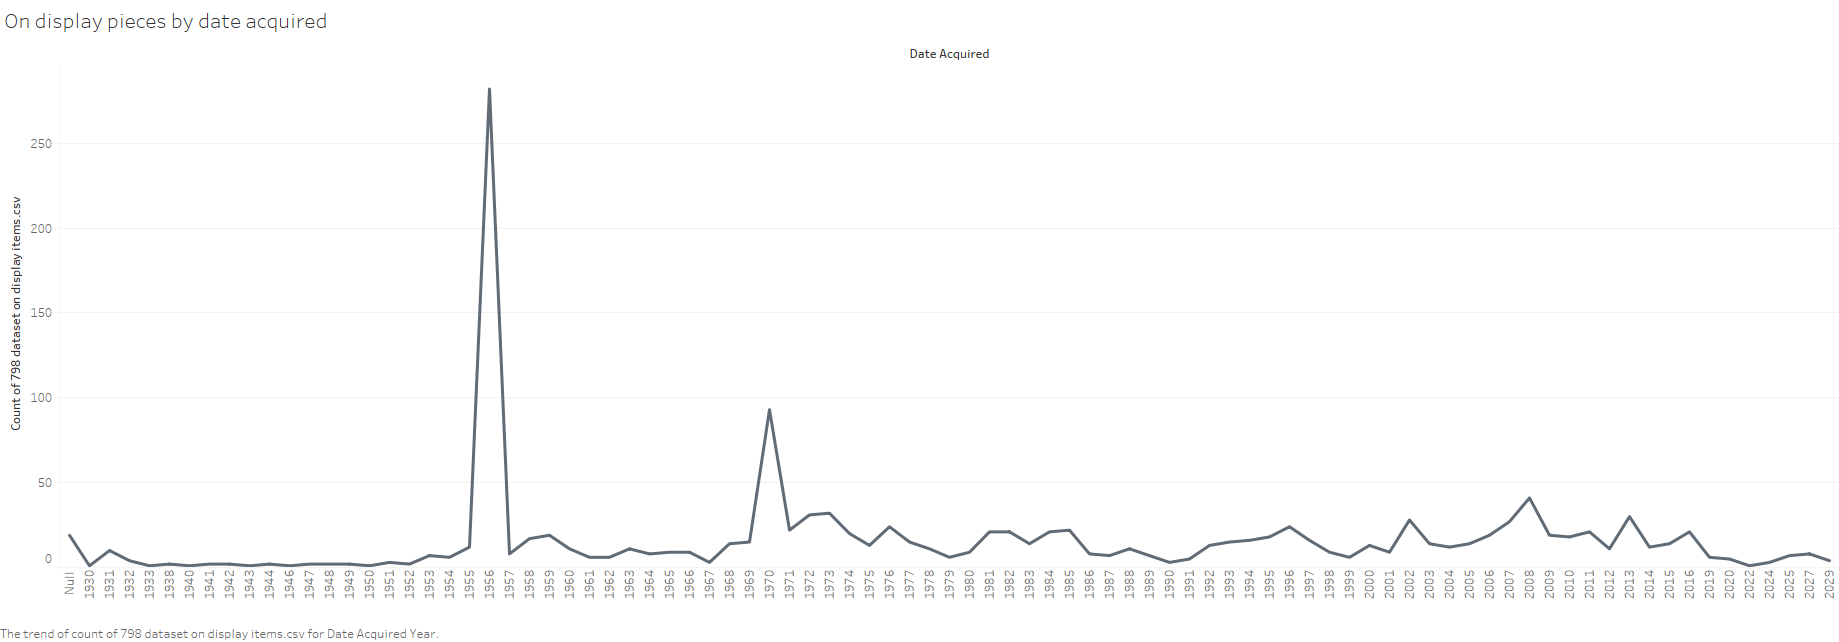

The page's visual inventory and layout, read from the dashboard file:
{"tool":"tableau","page":{"name":"Dashboard 1","canvas":[1000,800],"ordinal":0},"visuals":[{"type":"worksheet","title":"Sheet 2","mark":"Automatic","rows":["798!data!only!not!on!view!rows_52761707DF0A46CA932B8A59ADC1F"],"cols":["date_acquired"],"box":[8,8,984,784]}]}

Visuals, with their boxes on the page's 1000x800 design canvas (x1, y1, x2, y2). These are canvas units, not pixel positions in the 1839x642 screenshot, which may show the page scaled, cropped or inside an application window:
"Sheet 2" worksheet: box(8, 8, 992, 792)
